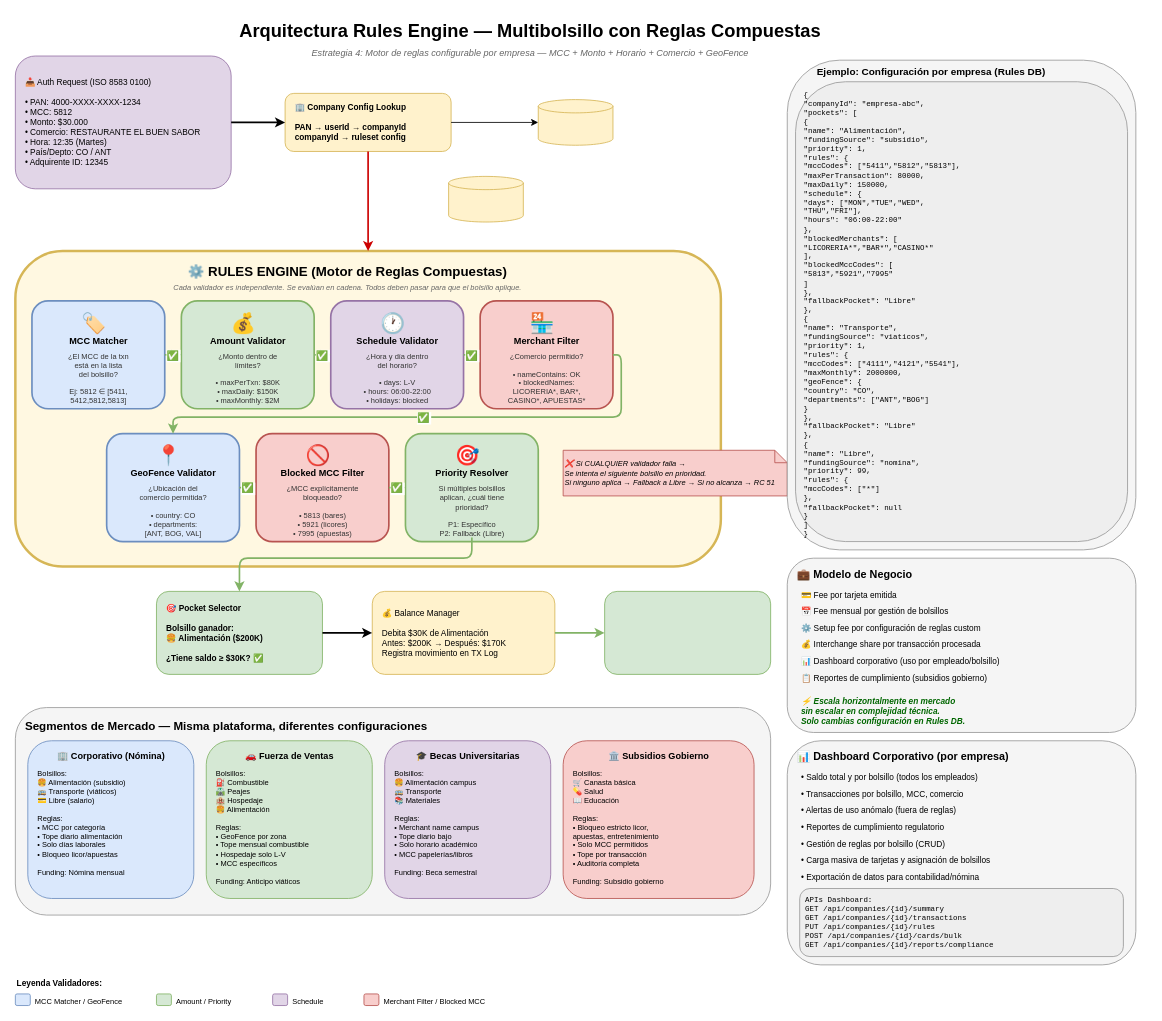
This 1162x1021 diagram has some shape labels left out. The shapes that lost their labels are listed below. From the top down, each one's centre as x and y in pixels, then its label:
the point at 575,122: 🗄️ Company Rules DB
the point at 485,199: 🗄️ Pocket DB (saldos usuario)
the point at 687,632: 📤 Auth Response RC 00 — Aprobada ✅ Bolsillo: Alimentación Saldo restante: $170K
